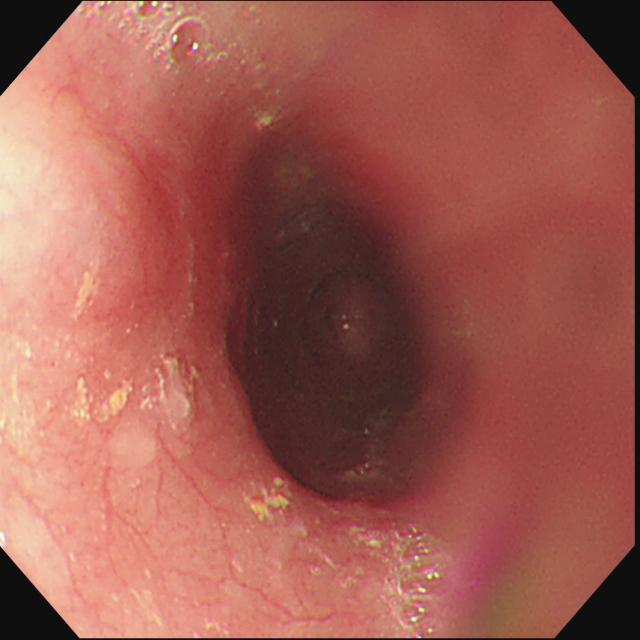E: (254, 213, 428, 427)
J: (157, 354, 201, 434), (74, 376, 134, 424), (249, 477, 294, 529)
T: (82, 2, 227, 79), (387, 522, 454, 637)
